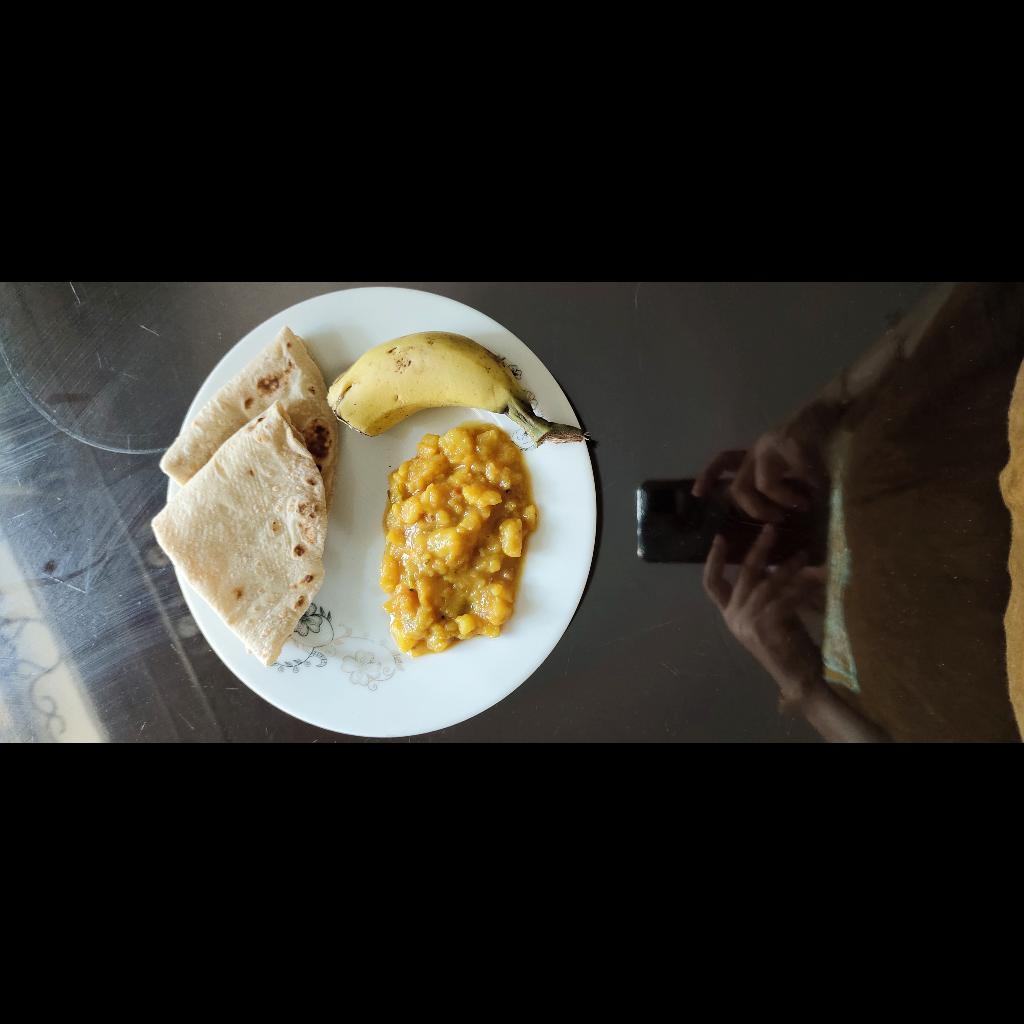banana: (296, 605, 416, 877)
daal: (87, 657, 328, 815)
ruti: (75, 431, 417, 618)
